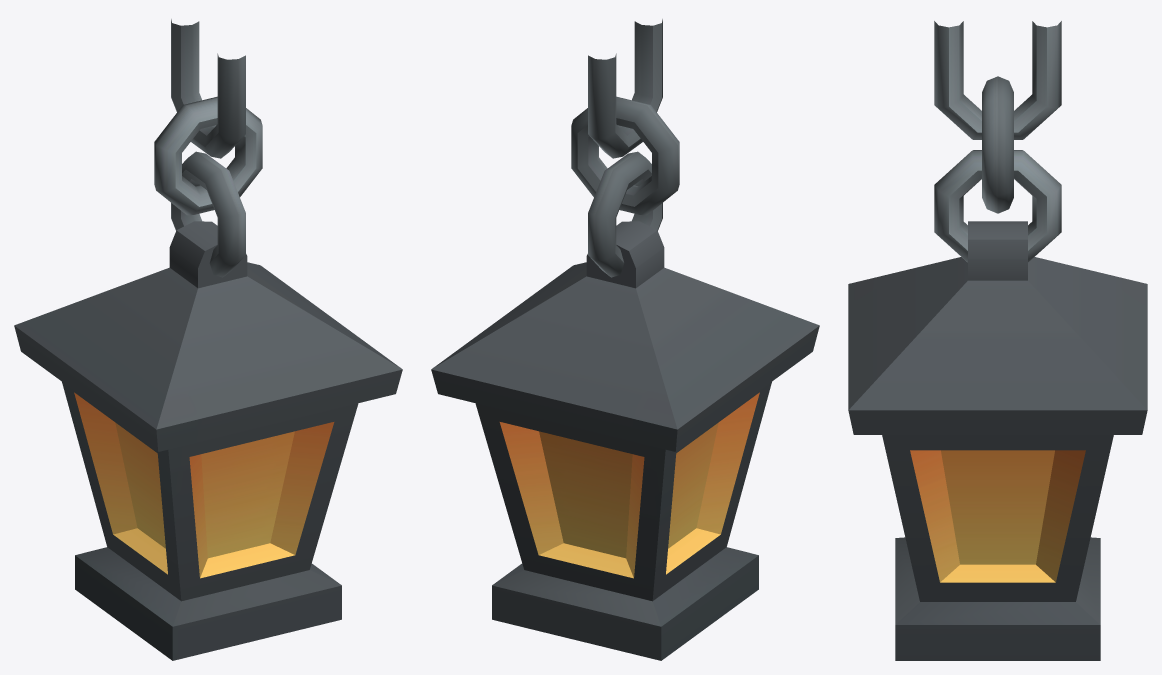
Rendered from lantern-warm.glb.
The picture shows the model from 3 angles, left to right: view 1: azimuth 30°, elevation 25°; view 2: azimuth 150°, elevation 25°; view 3: azimuth 270°, elevation 25°; orthographic projection. The views are drawn at different scales.
Visible parts, largest first — view 1: lantern_hanging; view 2: lantern_hanging; view 3: lantern_hanging.
Boxes of the visible parts, x1,y1,x2,y2 form: lantern_hanging: (14,19,402,660); lantern_hanging: (431,19,819,660); lantern_hanging: (848,21,1147,660).
Size of the model in its own units: 0.64 by 1.41 by 0.64.
1 material, 1 textured.
